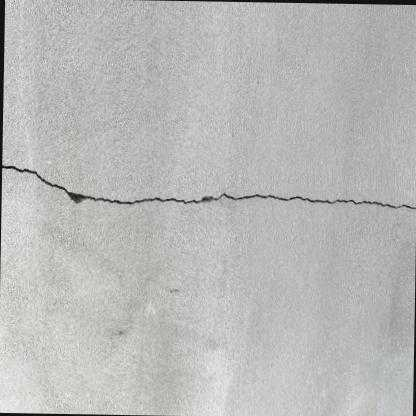crack: (1, 163, 416, 210)
